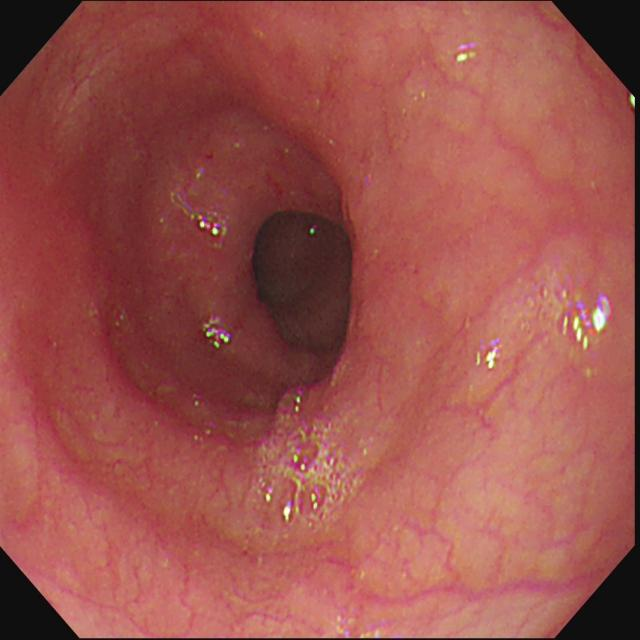E: (243, 204, 368, 361)
U: (248, 386, 355, 531), (570, 295, 611, 351), (196, 212, 228, 243), (476, 342, 502, 373), (206, 321, 232, 351)
